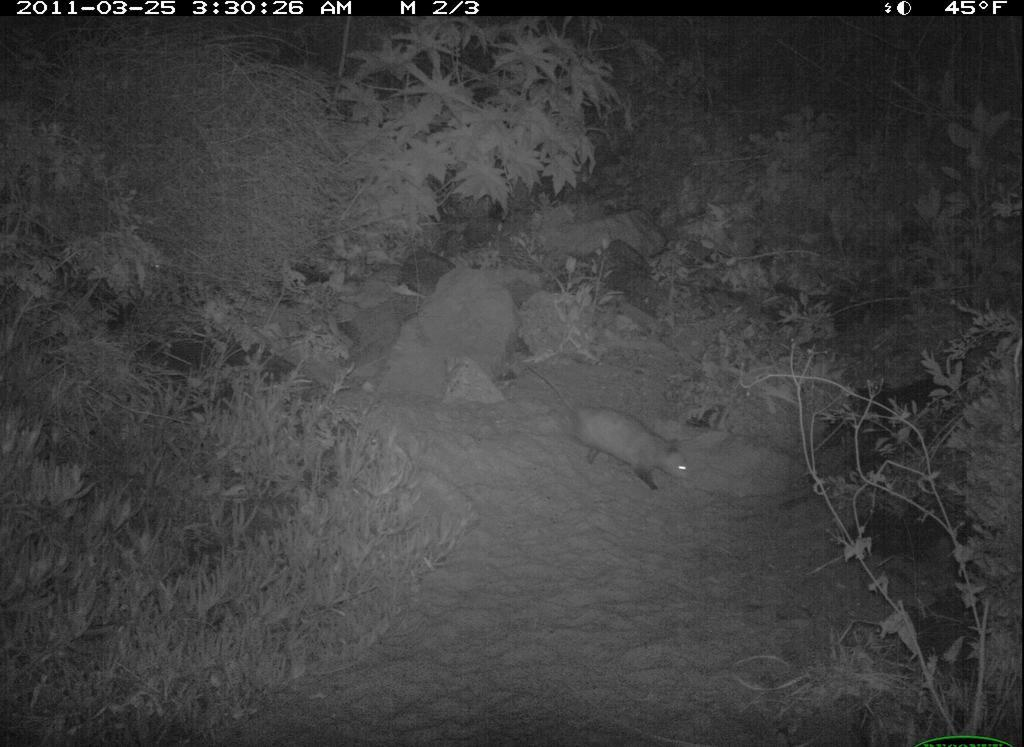opossum: (530, 360, 716, 502)
